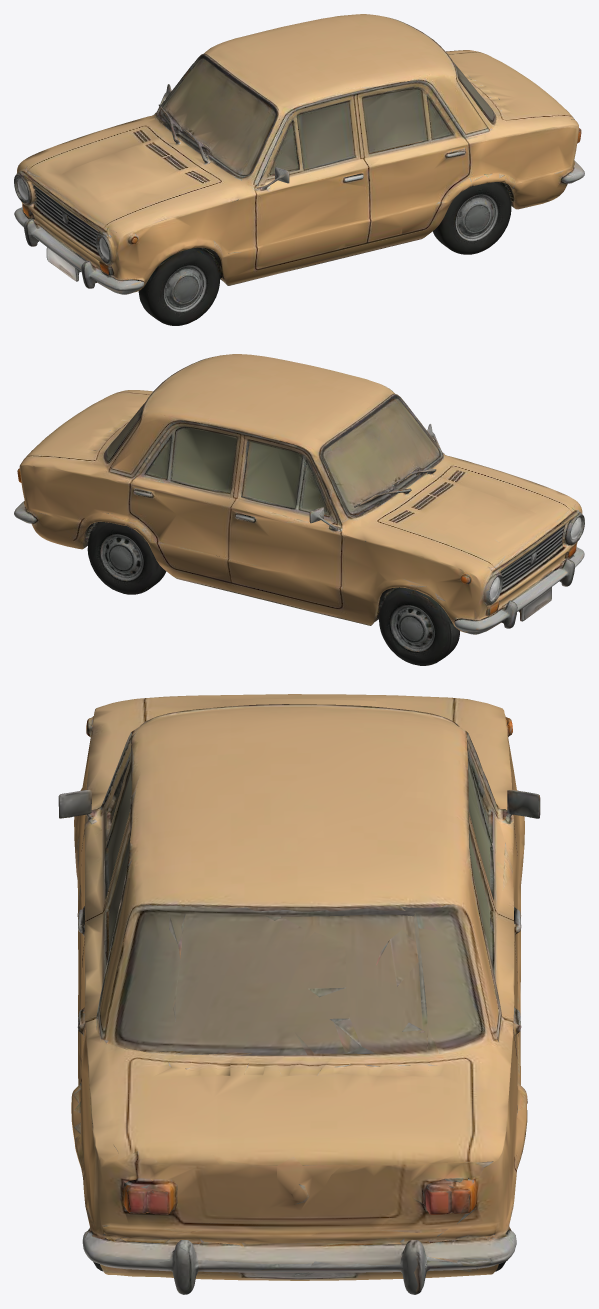
File: getkong-car2.glb
3 views of the same model, one above another, from view 1: azimuth 30°, elevation 25°; view 2: azimuth 150°, elevation 25°; view 3: azimuth 270°, elevation 25° (orthographic). The views are drawn at different scales.
Visible parts, largest first — view 1: Mesh_0; view 2: Mesh_0; view 3: Mesh_0.
Part boxes in pixels (bbox=[...]): Mesh_0: bbox=[14, 14, 584, 325]; Mesh_0: bbox=[14, 354, 584, 665]; Mesh_0: bbox=[58, 694, 540, 1294].
Bounding box in the file's own units: 1.9 × 0.7149 × 0.8047.
1 material, 1 textured.
